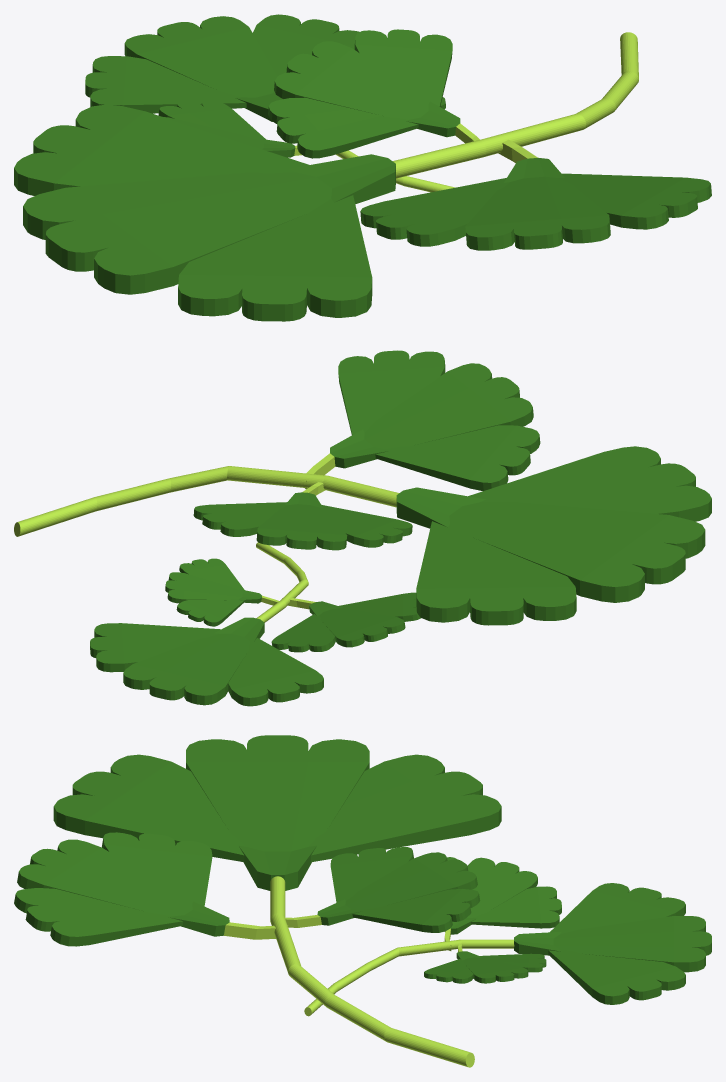
Rendered from cilantro.fbx.
The picture shows the model from 3 angles, top to bottom: view 1: azimuth 30°, elevation 25°; view 2: azimuth 150°, elevation 25°; view 3: azimuth 270°, elevation 25°; orthographic projection. The views are drawn at different scales.
Visible parts, largest first — view 1: Cube.010, Cube.007; view 2: Cube.010, Cube.007; view 3: Cube.010, Cube.007.
Boxes of the visible parts, x1,y1,x2,y2 form: Cube.010: (14,29,711,321); Cube.007: (85,14,454,192); Cube.010: (14,350,711,625); Cube.007: (90,542,420,706); Cube.010: (14,735,501,1067); Cube.007: (304,857,711,1016).
Size of the model in its own units: 57.9 by 9.8 by 59.41.
